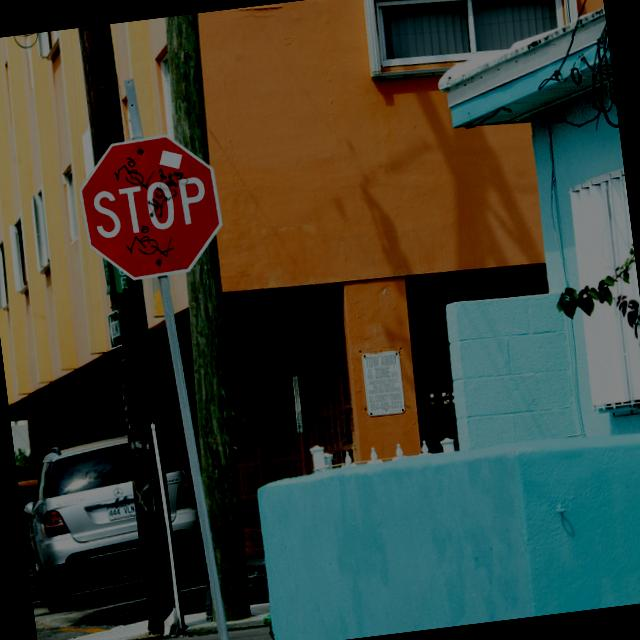Vehicle: (17, 427, 209, 616), (18, 482, 44, 568)
